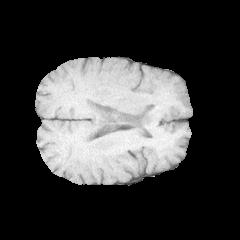glioma: (115, 91, 166, 124)
